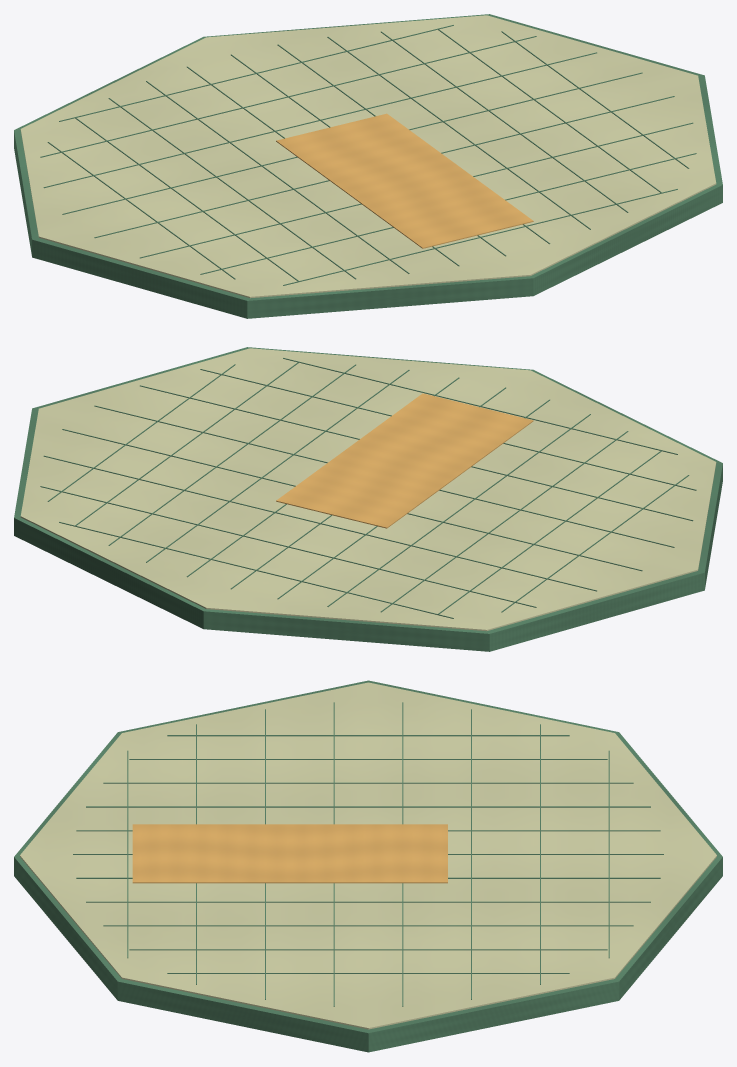
File: atlas100-s004-a07.glb
3 views of the same model, one above another, from view 1: azimuth 30°, elevation 25°; view 2: azimuth 150°, elevation 25°; view 3: azimuth 270°, elevation 25° (orthographic). The views are drawn at different scales.
Parts seen in each view (by area): view 1: atlas100-s004-a07:part-001, atlas100-s004-a07:part-000, atlas100-s004-a07:part-021, atlas100-s004-a07:part-015, atlas100-s004-a07:part-014, atlas100-s004-a07:part-016, atlas100-s004-a07:part-017, atlas100-s004-a07:part-018, atlas100-s004-a07:part-013, atlas100-s004-a07:part-020, atlas100-s004-a07:part-019, atlas100-s004-a07:part-005 (+3 smaller); view 2: atlas100-s004-a07:part-001, atlas100-s004-a07:part-000, atlas100-s004-a07:part-021, atlas100-s004-a07:part-015, atlas100-s004-a07:part-014, atlas100-s004-a07:part-017, atlas100-s004-a07:part-016, atlas100-s004-a07:part-018, atlas100-s004-a07:part-020, atlas100-s004-a07:part-013, atlas100-s004-a07:part-019, atlas100-s004-a07:part-005 (+3 smaller); view 3: atlas100-s004-a07:part-001, atlas100-s004-a07:part-000, atlas100-s004-a07:part-021, atlas100-s004-a07:part-005, atlas100-s004-a07:part-009, atlas100-s004-a07:part-004, atlas100-s004-a07:part-010, atlas100-s004-a07:part-011, atlas100-s004-a07:part-002.
Part boxes in pixels (x1,y1,x2,y2): atlas100-s004-a07:part-001: (20, 15, 716, 298); atlas100-s004-a07:part-000: (14, 14, 722, 318); atlas100-s004-a07:part-021: (276, 113, 533, 248); atlas100-s004-a07:part-015: (43, 52, 596, 188); atlas100-s004-a07:part-014: (40, 36, 536, 157); atlas100-s004-a07:part-016: (62, 72, 642, 214); atlas100-s004-a07:part-017: (94, 96, 674, 238); atlas100-s004-a07:part-018: (140, 122, 693, 258); atlas100-s004-a07:part-013: (59, 25, 453, 121); atlas100-s004-a07:part-020: (283, 189, 677, 285); atlas100-s004-a07:part-019: (200, 153, 696, 274); atlas100-s004-a07:part-005: (146, 81, 409, 273); atlas100-s004-a07:part-001: (20, 348, 716, 631); atlas100-s004-a07:part-000: (14, 347, 722, 651); atlas100-s004-a07:part-021: (276, 393, 533, 528); atlas100-s004-a07:part-015: (43, 455, 596, 591); atlas100-s004-a07:part-014: (40, 486, 536, 607); atlas100-s004-a07:part-017: (94, 405, 674, 547); atlas100-s004-a07:part-016: (62, 429, 642, 571); atlas100-s004-a07:part-018: (140, 385, 693, 521); atlas100-s004-a07:part-020: (283, 358, 677, 454); atlas100-s004-a07:part-013: (59, 522, 453, 618); atlas100-s004-a07:part-019: (200, 369, 696, 490); atlas100-s004-a07:part-005: (327, 414, 590, 606); atlas100-s004-a07:part-001: (20, 682, 716, 1029); atlas100-s004-a07:part-000: (14, 680, 722, 1052); atlas100-s004-a07:part-021: (132, 824, 447, 883); atlas100-s004-a07:part-005: (86, 806, 650, 807); atlas100-s004-a07:part-009: (86, 901, 650, 902); atlas100-s004-a07:part-004: (103, 782, 633, 783); atlas100-s004-a07:part-010: (103, 925, 633, 926); atlas100-s004-a07:part-011: (129, 949, 607, 950); atlas100-s004-a07:part-002: (167, 735, 569, 736).
Size of the model in its own units: 13.35 by 0.404 by 11.34.
3 materials, 3 textured.
